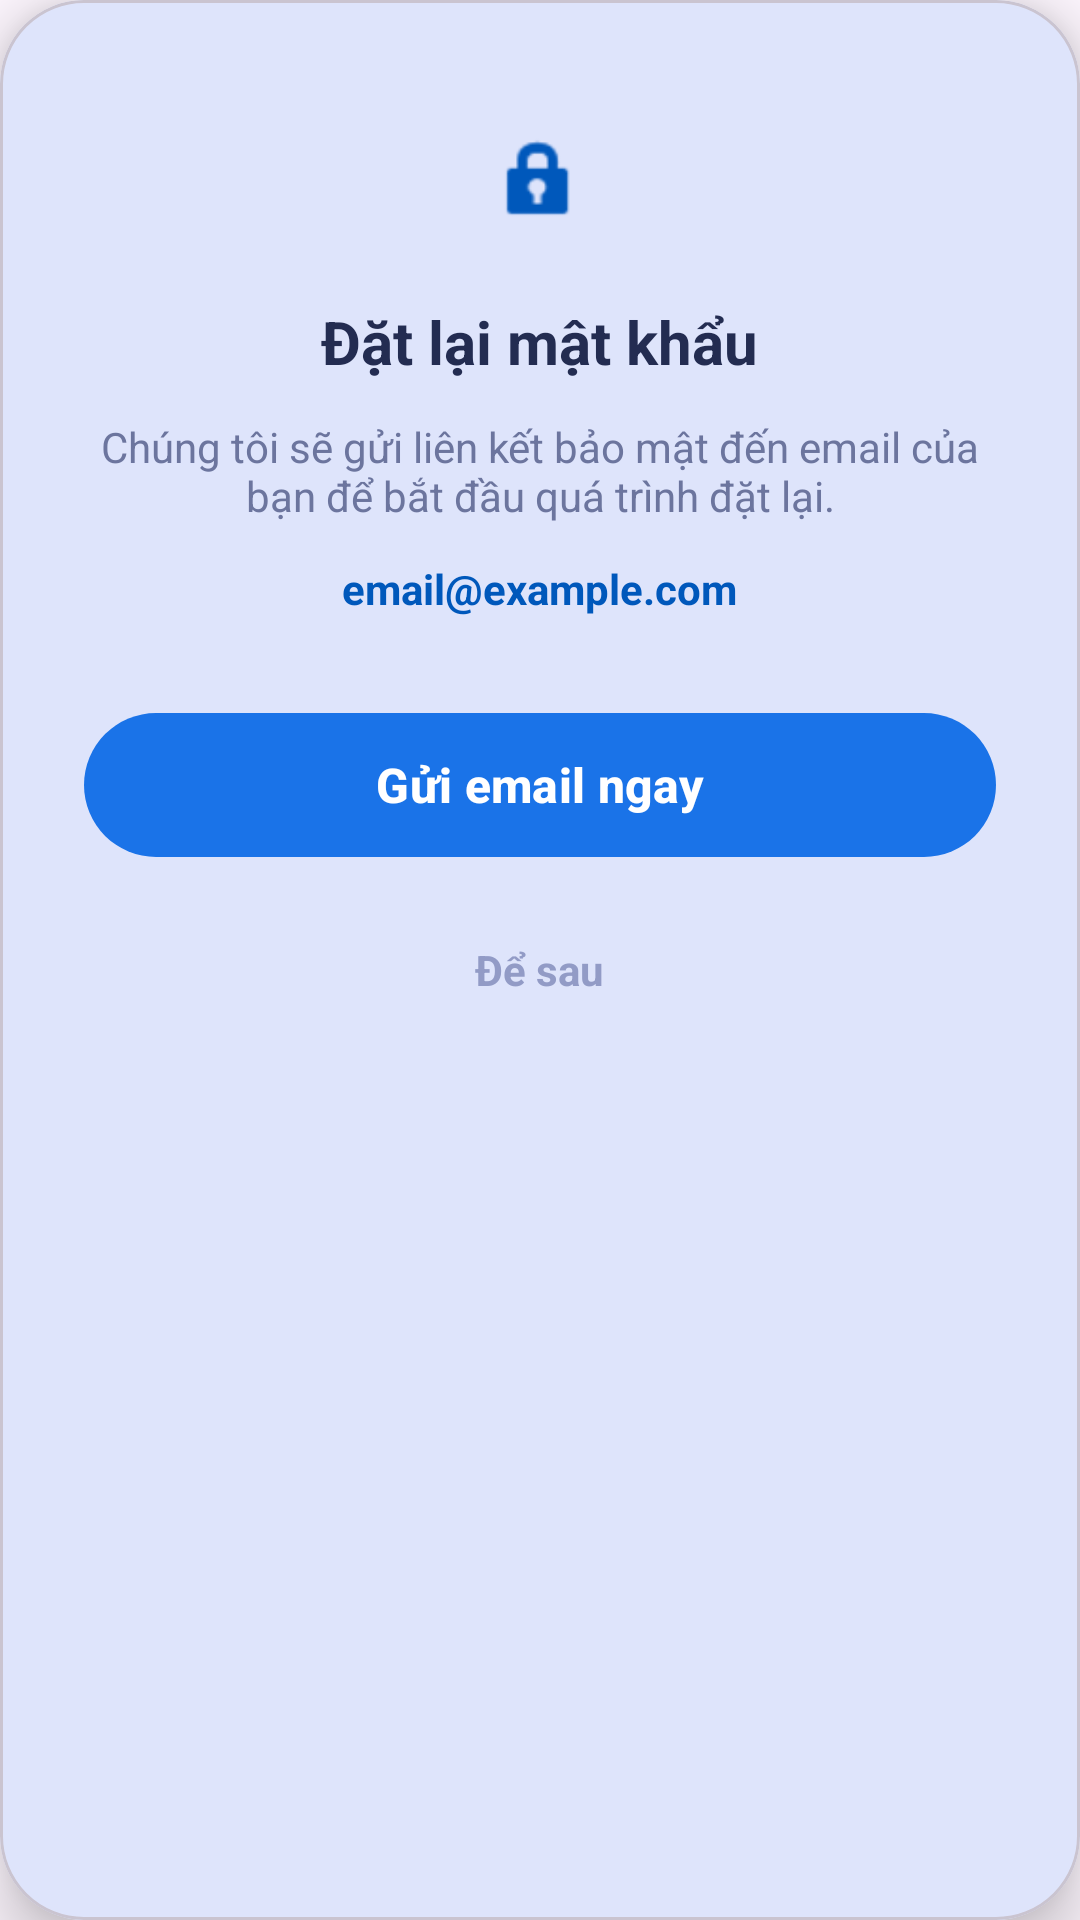

Locate icon controls on the screen. Image size 1080*1920, boxes as (x1, y1, x2, y2).
lock idle: (506, 141, 569, 215)
